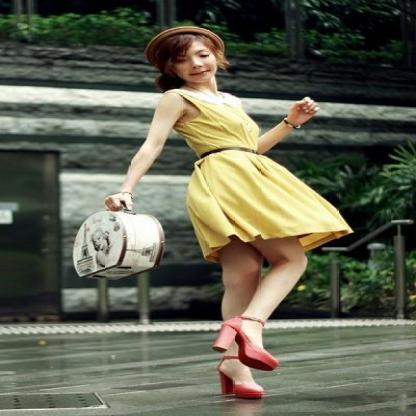bag: (73, 208, 163, 278)
dress: (166, 91, 352, 266)
hat: (164, 26, 224, 58)
shoe: (211, 318, 278, 400)
